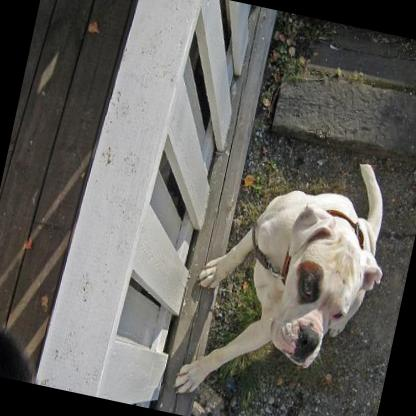boxer: (169, 124, 407, 416)
